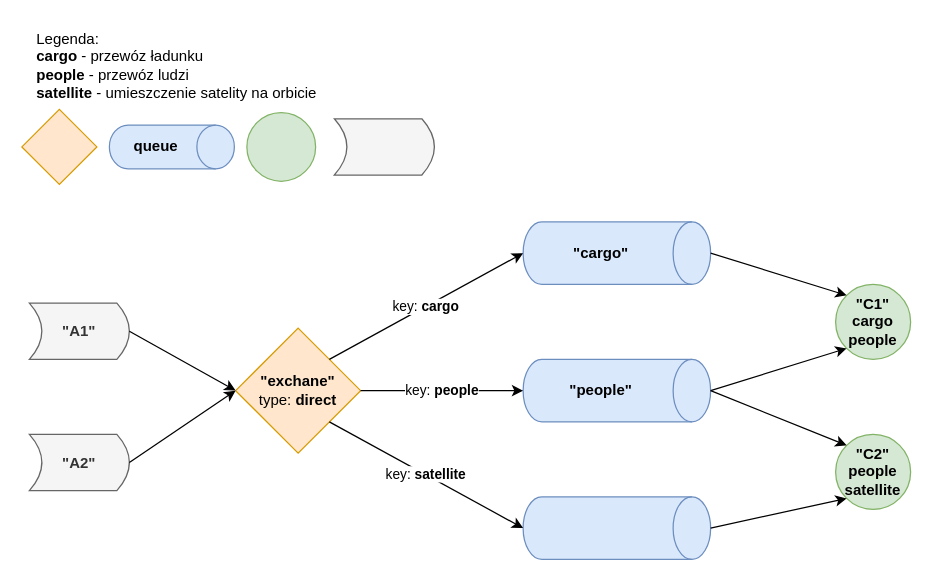
Image size: 933x581. Some labels were removed from this diagram. Each missing label, with the centre of its shape:
"satellite": point 616,527
agency: point 383,146
carrier: point 281,146
exchange: point 59,146
